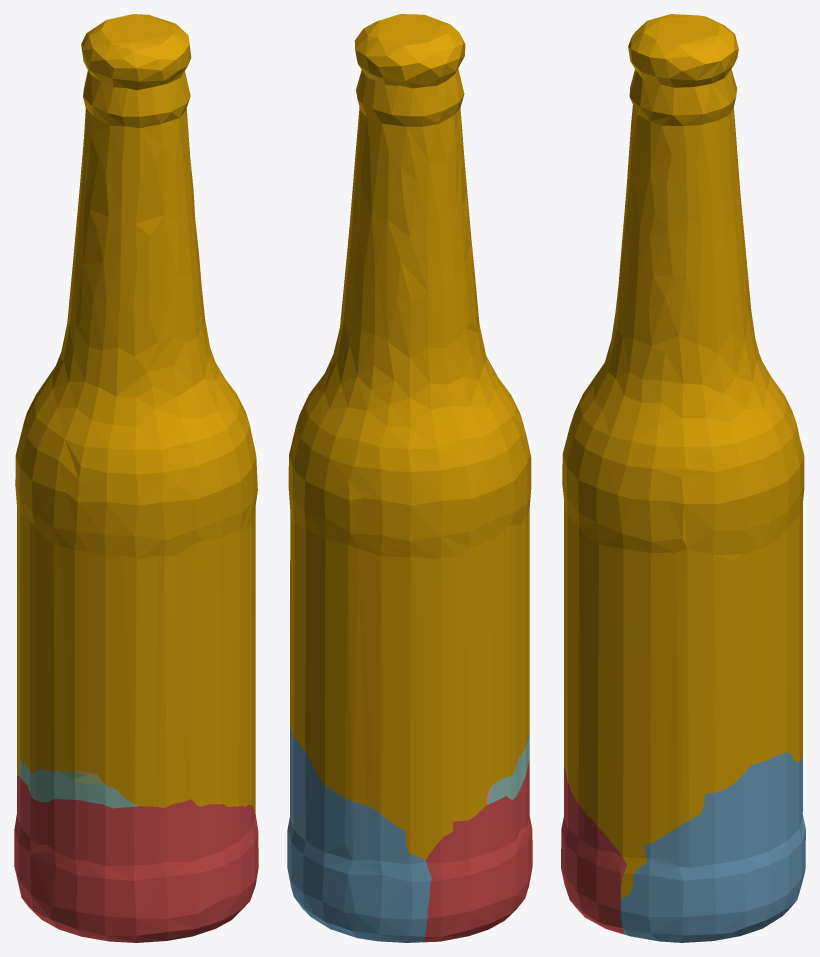
Rendered from mode_5_8pcs.glb.
3 renders of one model, left to right at view 1: azimuth 30°, elevation 25°; view 2: azimuth 150°, elevation 25°; view 3: azimuth 270°, elevation 25°, orthographic.
Visible parts, largest first — view 1: piece_0.obj, piece_1.obj, piece_4.obj; view 2: piece_0.obj, piece_2.obj, piece_1.obj, piece_4.obj; view 3: piece_0.obj, piece_2.obj, piece_1.obj.
Part boxes in pixels (x1,y1,x2,y2): piece_0.obj: (15, 14, 258, 849); piece_1.obj: (14, 775, 258, 942); piece_4.obj: (19, 759, 138, 808); piece_0.obj: (288, 14, 531, 859); piece_2.obj: (287, 729, 431, 942); piece_1.obj: (423, 759, 532, 942); piece_4.obj: (487, 740, 529, 804); piece_0.obj: (562, 14, 804, 898); piece_2.obj: (619, 752, 805, 942); piece_1.obj: (561, 766, 626, 933).
Bounding box in the file's own units: 0.2521 × 1 × 0.2519.
